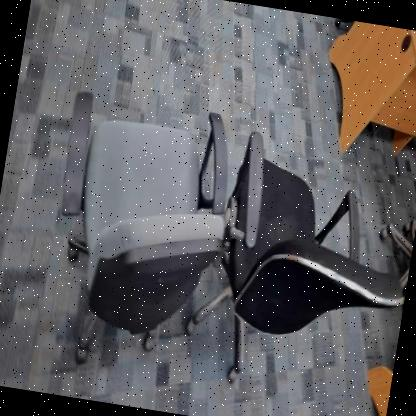chair: (16, 74, 250, 387), (187, 116, 416, 416)
